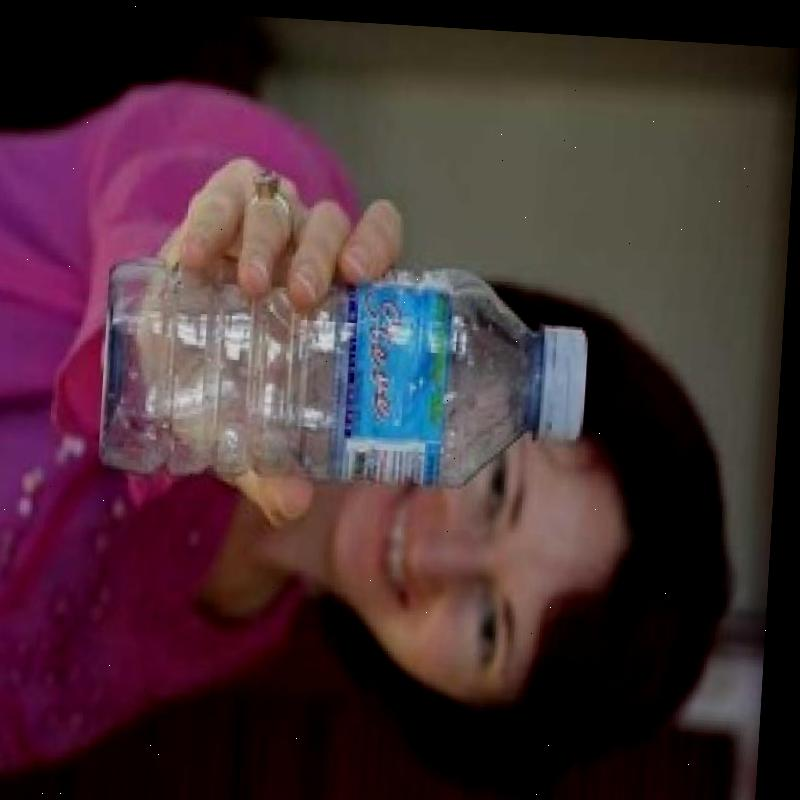botella: (103, 244, 599, 492)
